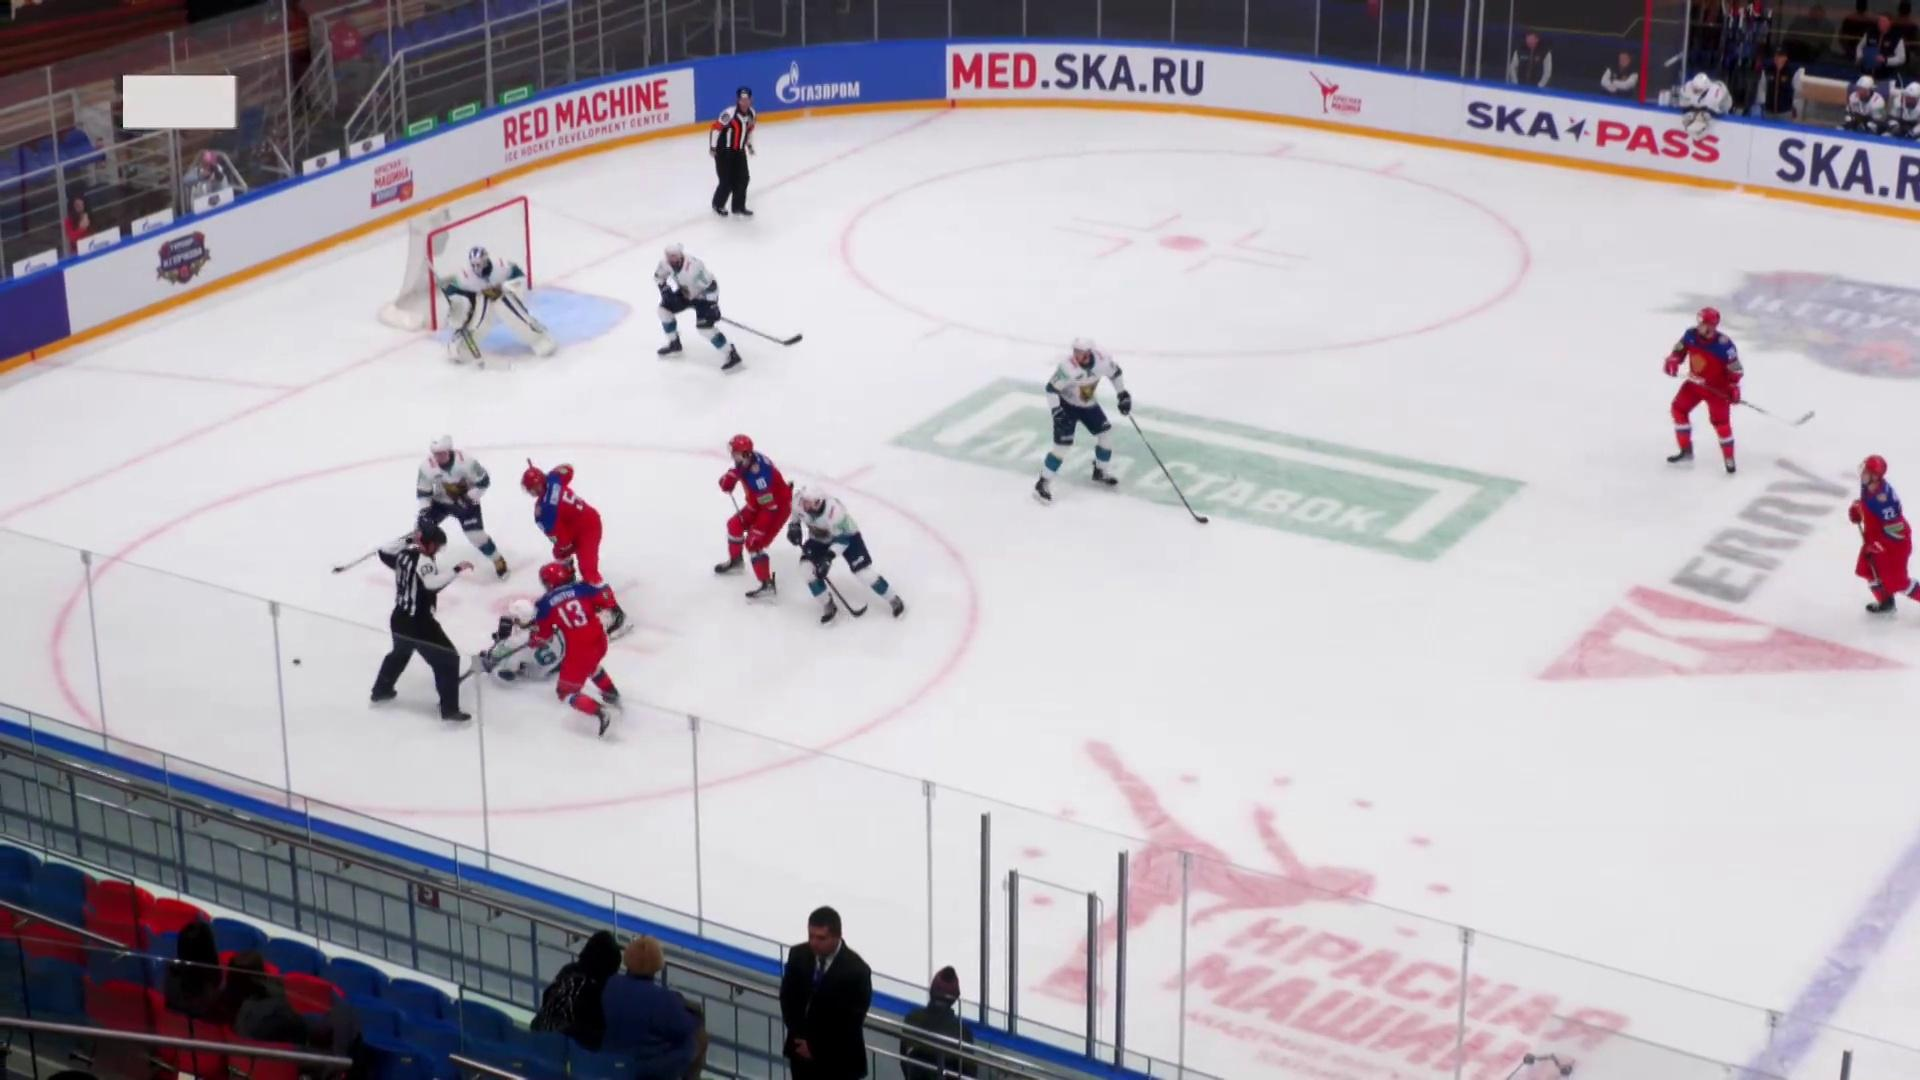ball: (291, 658, 301, 666)
